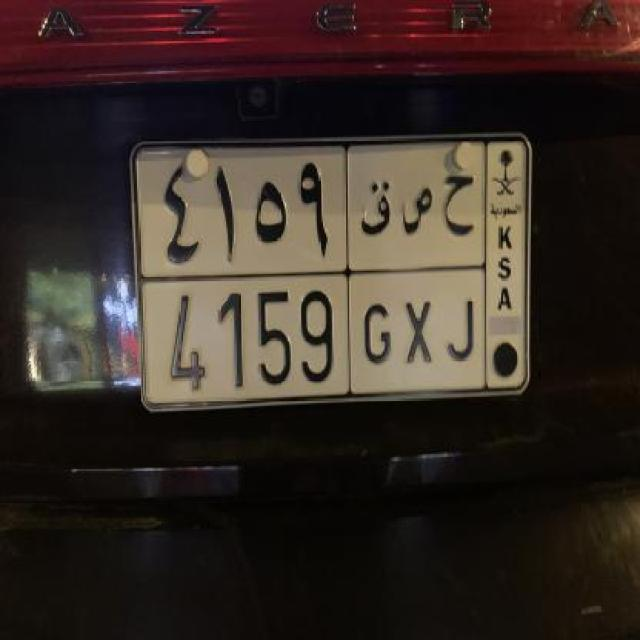license_plate: (124, 128, 536, 414)
